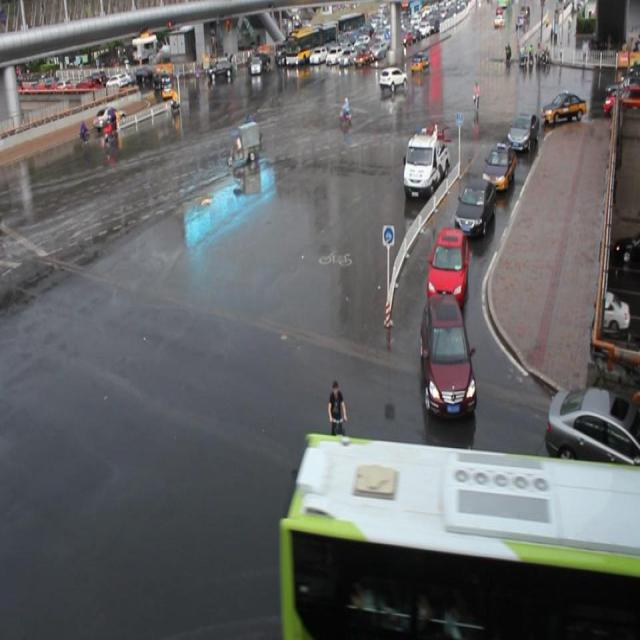bus: (402, 128, 450, 200)
car: (544, 386, 640, 472), (420, 292, 474, 417), (426, 226, 468, 308), (453, 176, 494, 234), (481, 142, 514, 188), (505, 111, 538, 150)
van: (278, 443, 640, 639)
